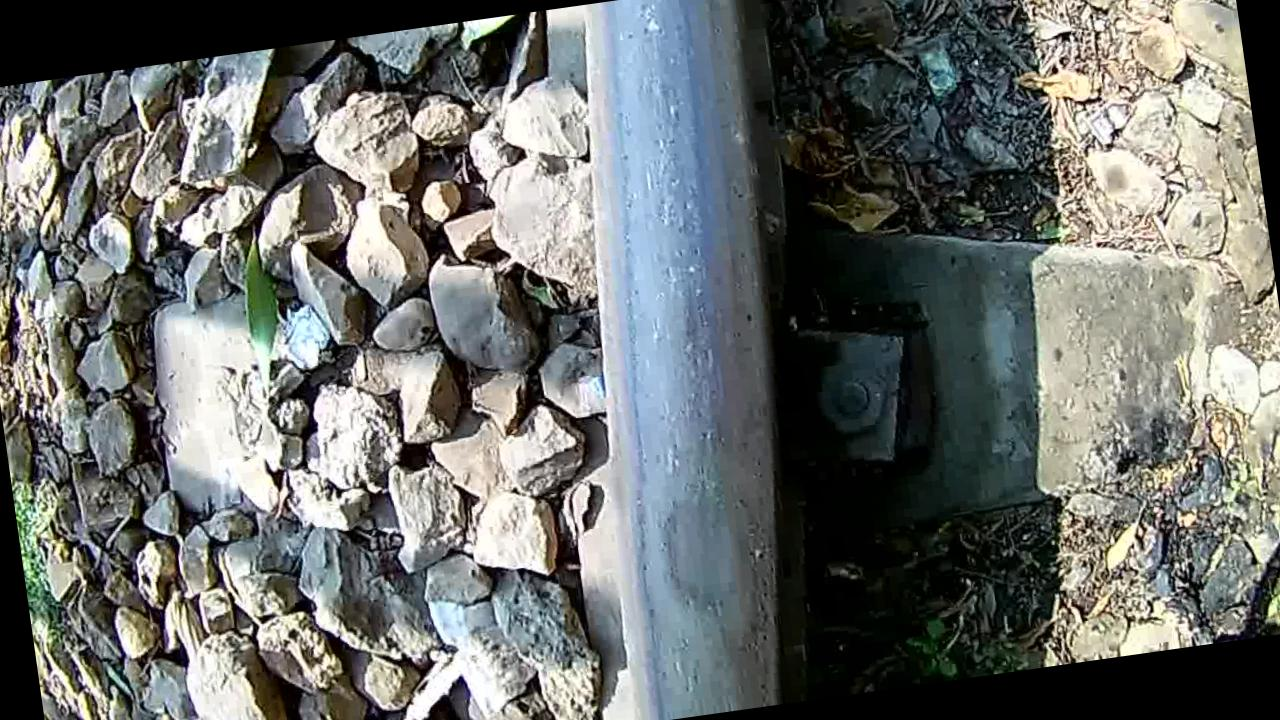bolt_missing: (599, 424, 803, 684)
